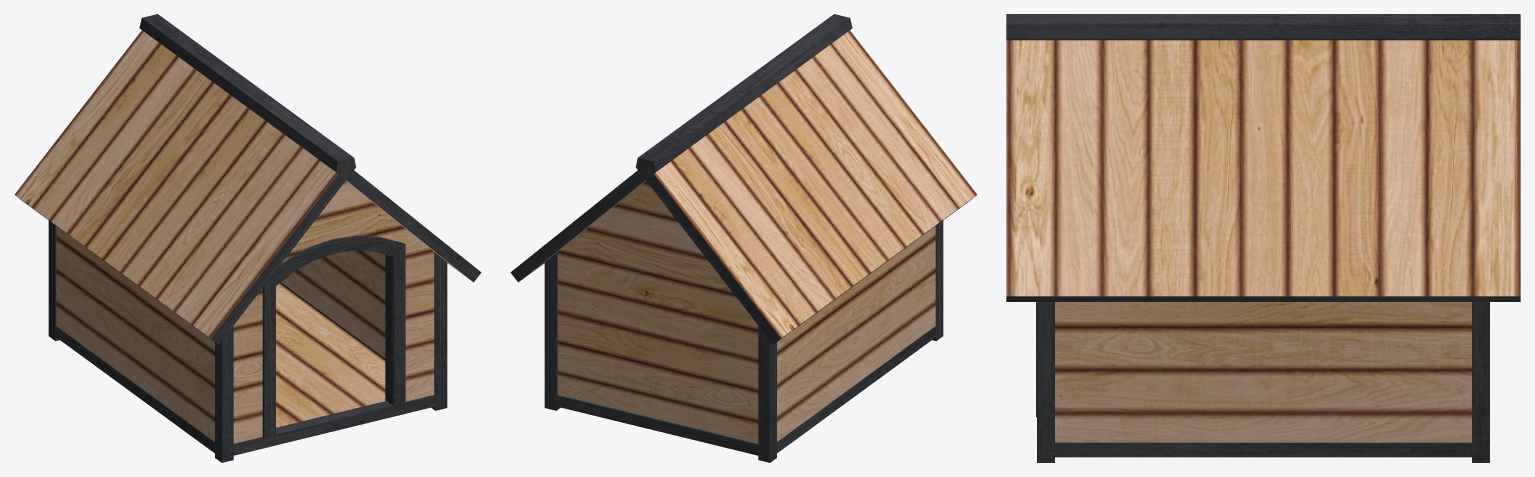
File: dog_house_549.obj
3 views of the same model, side by side, from view 1: azimuth 30°, elevation 25°; view 2: azimuth 150°, elevation 25°; view 3: azimuth 270°, elevation 25° (orthographic). The views are drawn at different scales.
Visible parts, largest first — view 1: Object_2, Object_3; view 2: Object_2, Object_3; view 3: Object_2, Object_3.
Boxes of the visible parts, x1=… form: Object_2: x1=14, y1=30, x2=481, y2=443; Object_3: x1=48, y1=14, x2=447, y2=462; Object_2: x1=510, y1=30, x2=977, y2=443; Object_3: x1=544, y1=14, x2=943, y2=462; Object_2: x1=1006, y1=40, x2=1520, y2=442; Object_3: x1=1006, y1=14, x2=1520, y2=462.
Size of the model in its own units: 71.6 by 71.86 by 90.01.
Materials: 2 (2 with a texture image).
